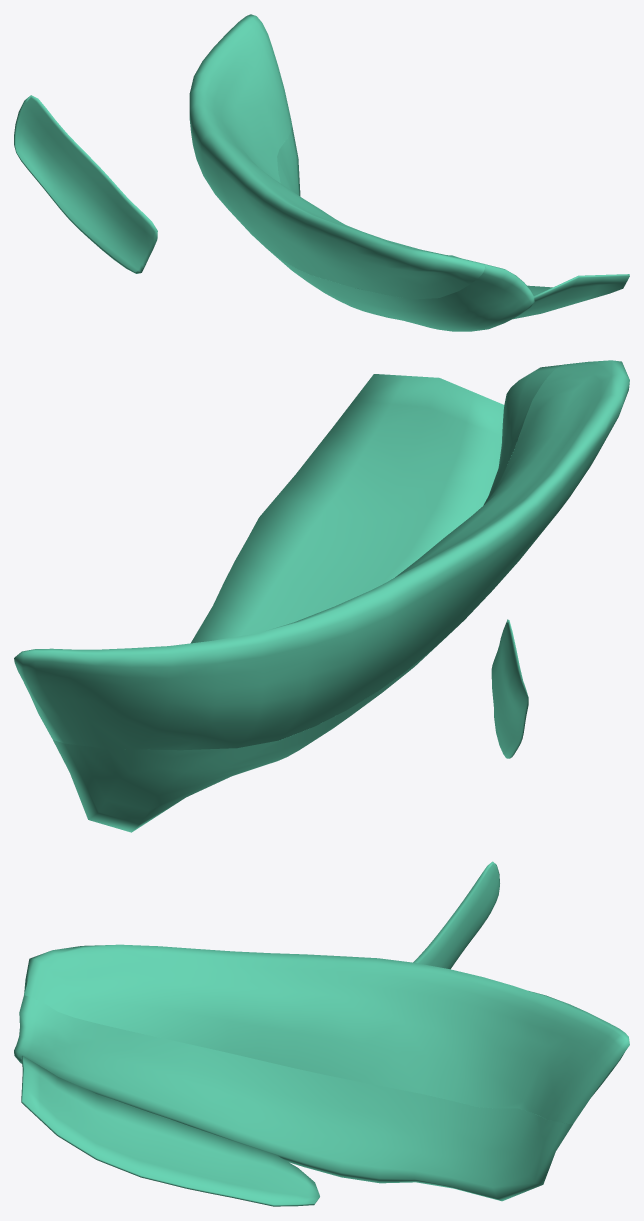
File: open3d-pelvicfloor-attachments-01.glb
3 renders of one model, top to bottom at view 1: azimuth 30°, elevation 25°; view 2: azimuth 150°, elevation 25°; view 3: azimuth 270°, elevation 25°, orthographic. The views are drawn at different scales.
Visible parts, largest first — view 1: O3D_86f494b29d0229, O3D_b6293cf970d12a, O3D_cb1f3a8e992cb1, O3D_7dfdce6abf3002; view 2: O3D_86f494b29d0229, O3D_7dfdce6abf3002, O3D_cb1f3a8e992cb1, O3D_b6293cf970d12a; view 3: O3D_86f494b29d0229, O3D_cb1f3a8e992cb1, O3D_7dfdce6abf3002, O3D_b6293cf970d12a.
Part boxes in pixels (box(x1,y1,x2,y2)): O3D_86f494b29d0229: box(189, 14, 485, 299); O3D_b6293cf970d12a: box(14, 95, 157, 273); O3D_cb1f3a8e992cb1: box(268, 126, 534, 331); O3D_7dfdce6abf3002: box(513, 274, 629, 319); O3D_86f494b29d0229: box(14, 360, 629, 750); O3D_7dfdce6abf3002: box(191, 374, 504, 643); O3D_cb1f3a8e992cb1: box(53, 364, 562, 832); O3D_b6293cf970d12a: box(491, 619, 528, 758); O3D_86f494b29d0229: box(24, 944, 629, 1124); O3D_cb1f3a8e992cb1: box(14, 995, 572, 1201); O3D_7dfdce6abf3002: box(21, 1055, 319, 1206); O3D_b6293cf970d12a: box(413, 861, 499, 969).
Size of the model in its own units: 0.0596 by 0.0328 by 0.0865.
